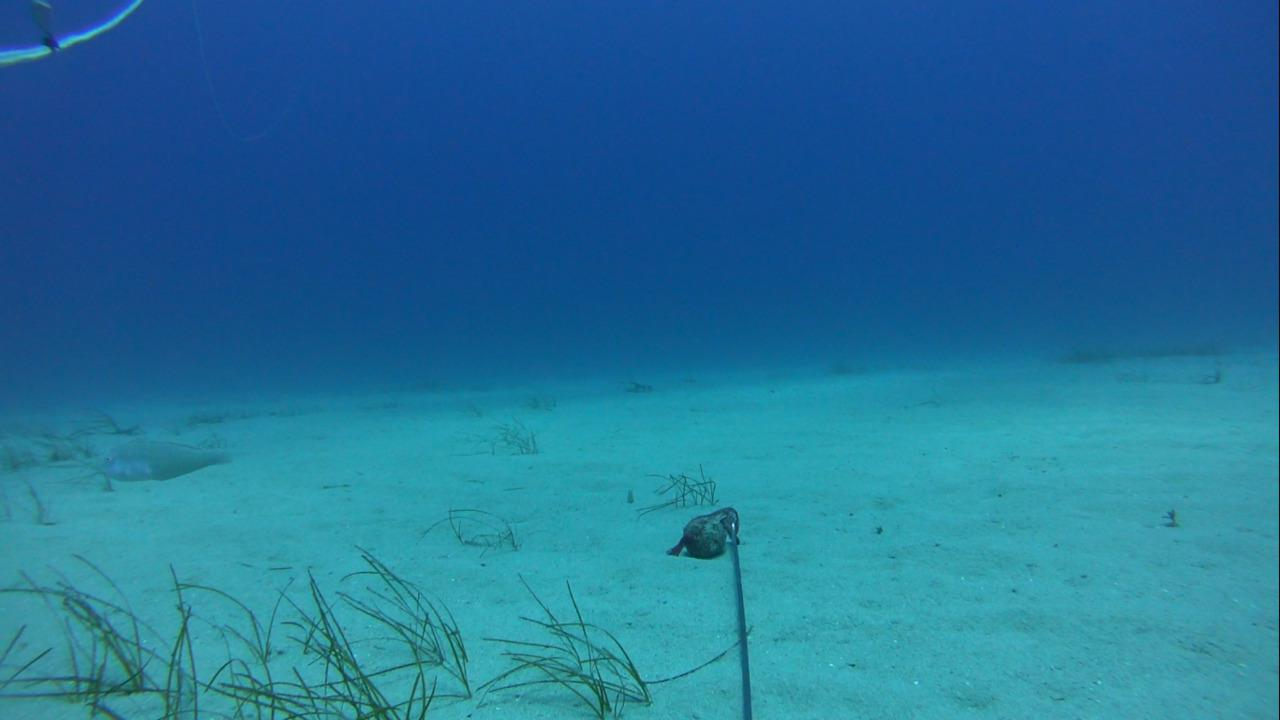raor: (91, 432, 238, 488)
